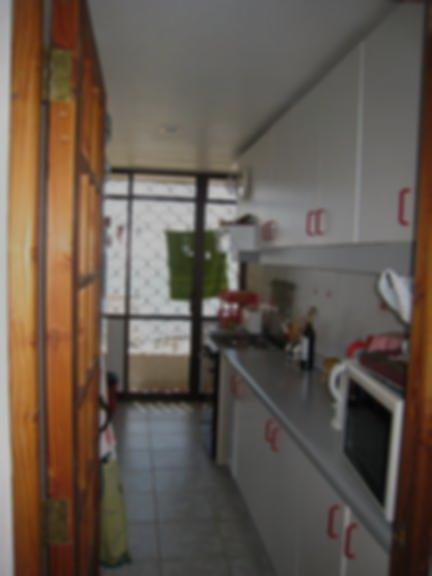Electrodomestico: (203, 336, 232, 459)
Puerta: (48, 4, 110, 559)
